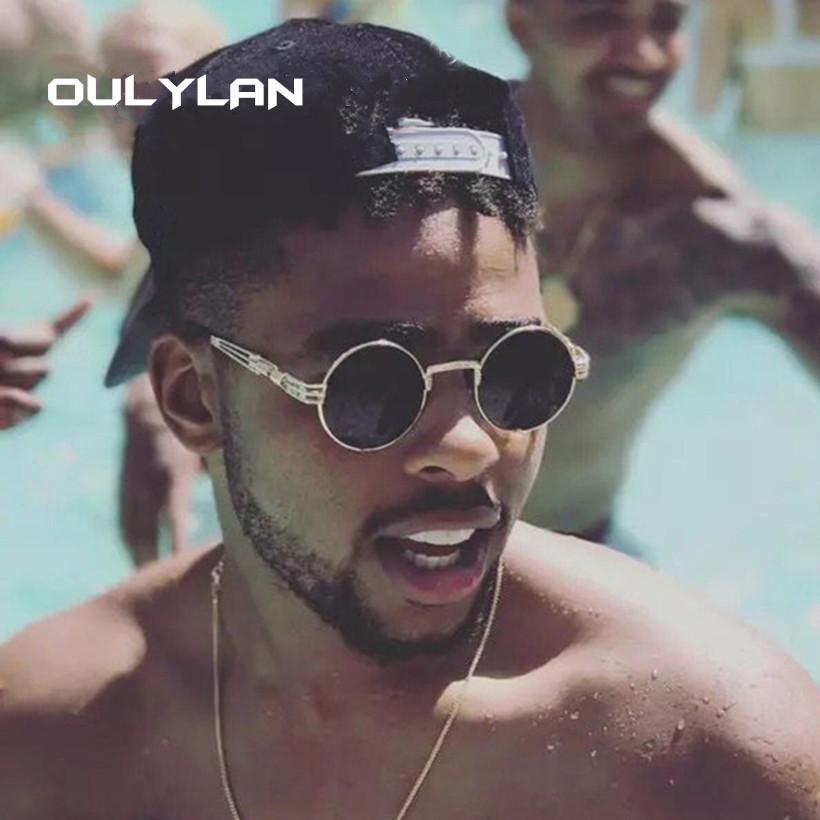sunglasses: (190, 298, 625, 444)
